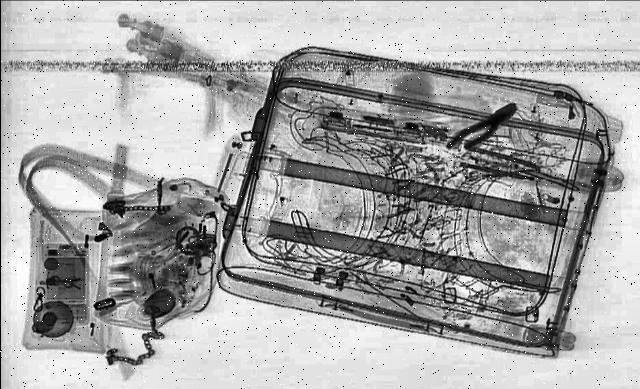Pliers: (439, 97, 526, 154)
